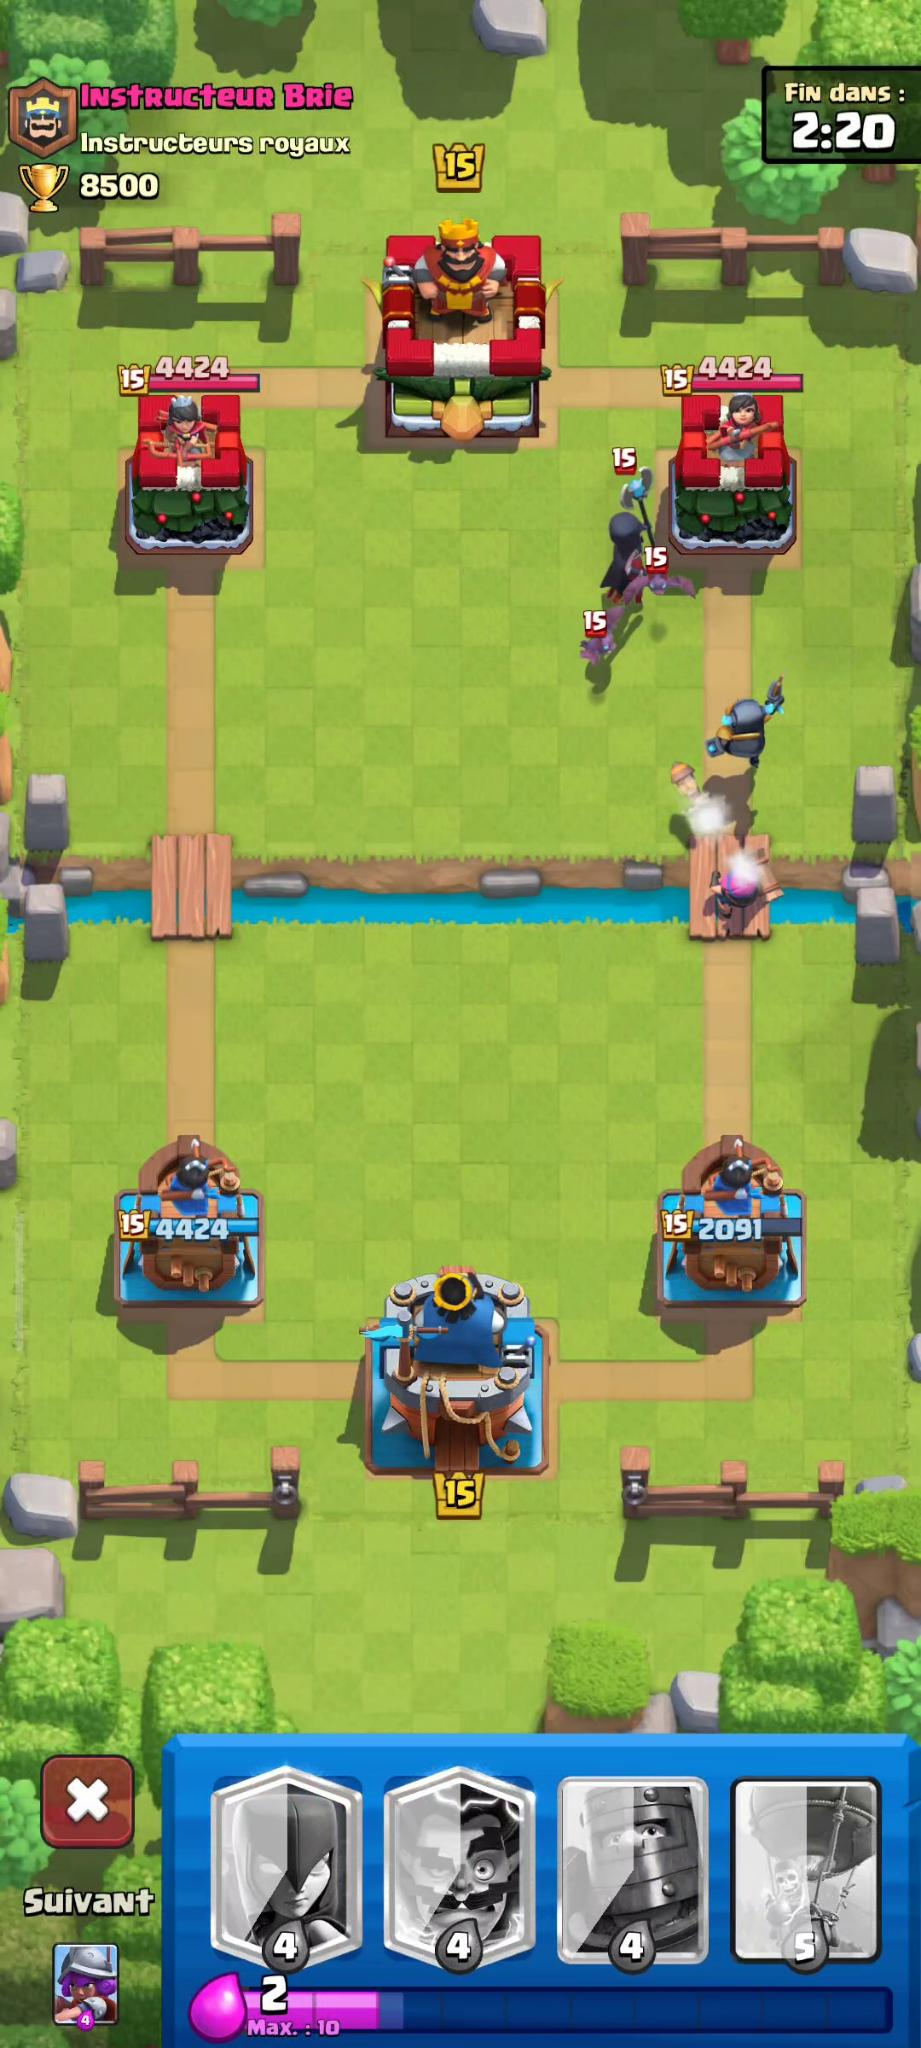bat: (560, 603, 628, 683), (621, 560, 679, 618)
mini_PEKKA: (691, 674, 785, 785)
